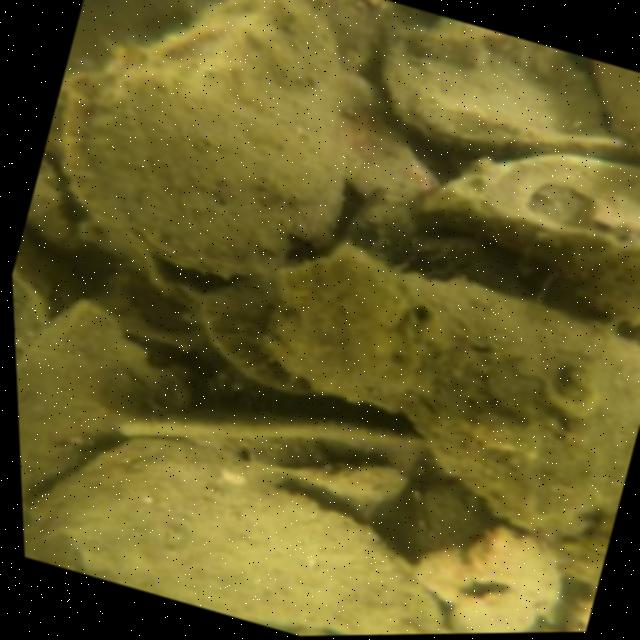Oyster-Indeterminate: (275, 247, 640, 545), (51, 440, 464, 635), (96, 0, 339, 269)
